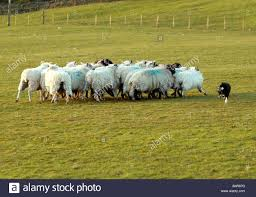sheep: (131, 63, 176, 98), (85, 65, 117, 101), (43, 66, 73, 102), (173, 65, 207, 95), (216, 79, 233, 103)
